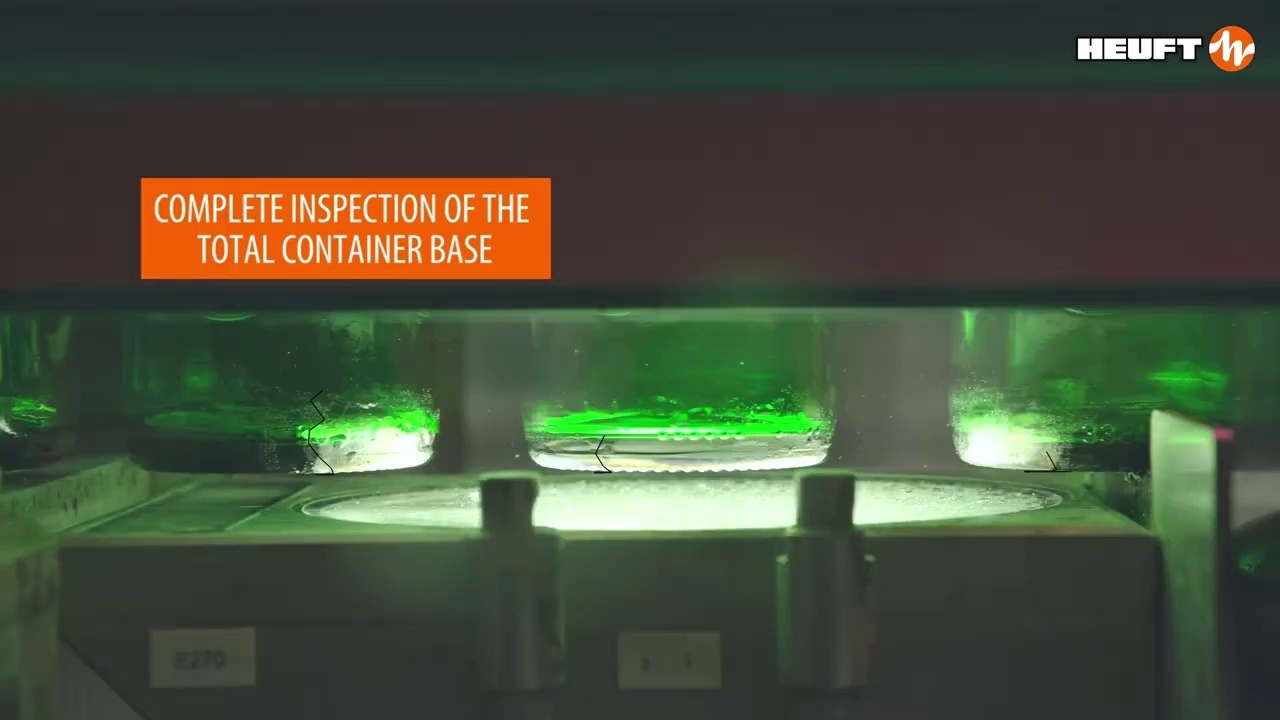bottle: (122, 308, 442, 474), (522, 311, 838, 475), (950, 306, 1223, 473)
crack: (308, 390, 333, 474), (1024, 451, 1071, 471), (594, 435, 611, 472)
